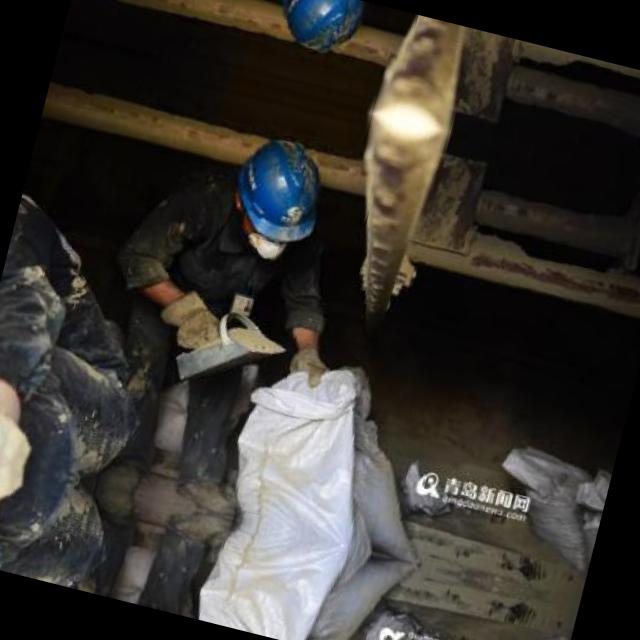helmet: (210, 125, 336, 266), (261, 0, 373, 64)
